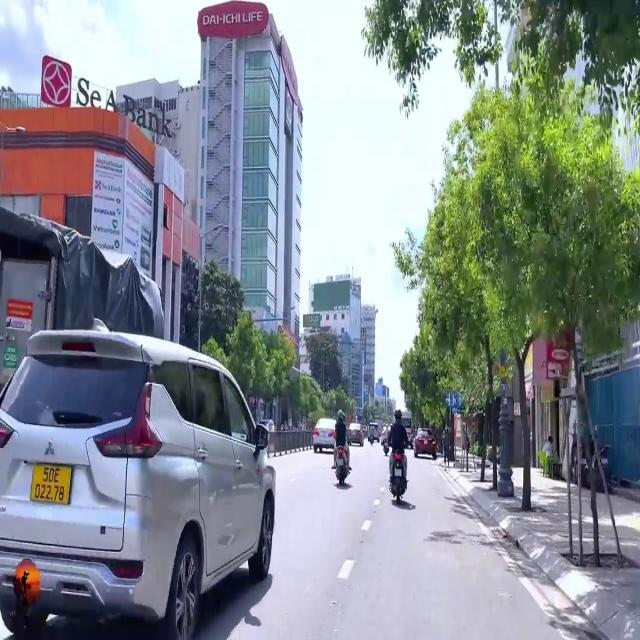bien_vang: (28, 456, 75, 512)
